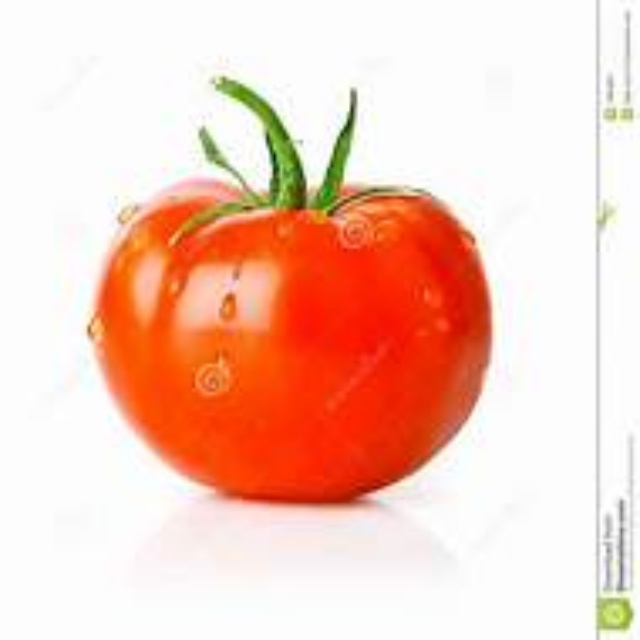tomato: (87, 83, 502, 506)
